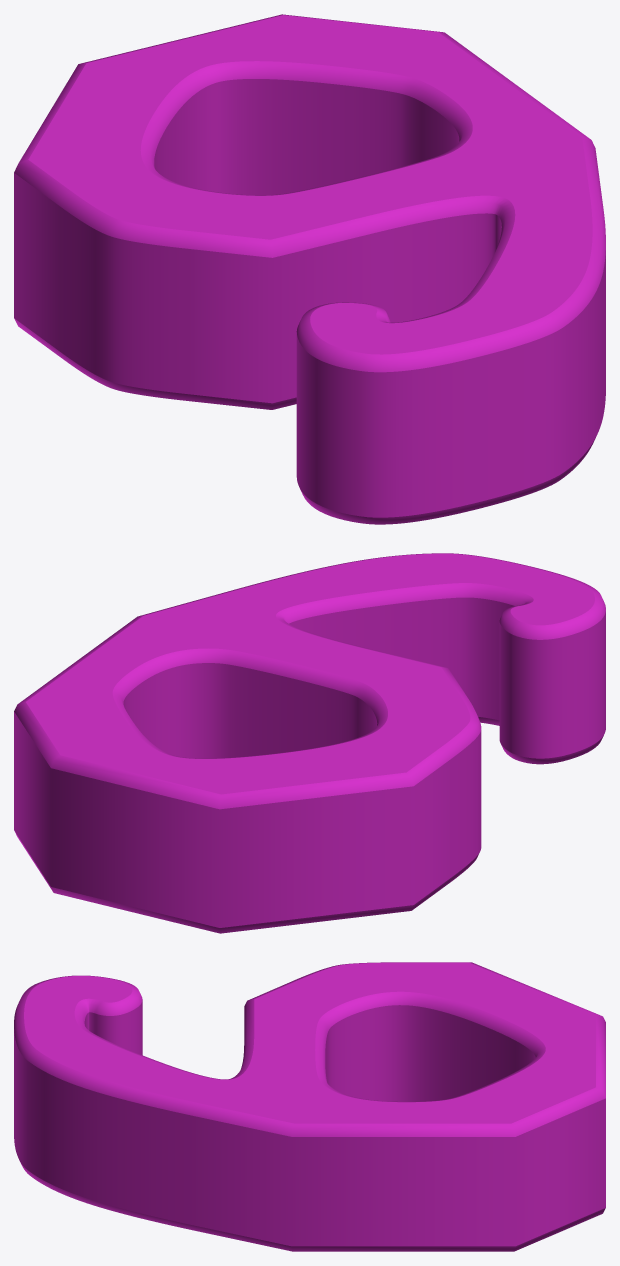
Rendered from Number_6.fbx.
The picture shows the model from 3 angles, top to bottom: view 1: azimuth 30°, elevation 25°; view 2: azimuth 150°, elevation 25°; view 3: azimuth 270°, elevation 25°; orthographic projection. The views are drawn at different scales.
Parts seen in each view (by area): view 1: Number_6; view 2: Number_6; view 3: Number_6.
Part boxes in pixels (left/top/right/bottom): Number_6: left=14, top=14, right=605, bottom=524; Number_6: left=14, top=553, right=605, bottom=933; Number_6: left=14, top=962, right=605, bottom=1251.
Size of the model in its own units: 0.3985 by 0.14 by 0.5882.
